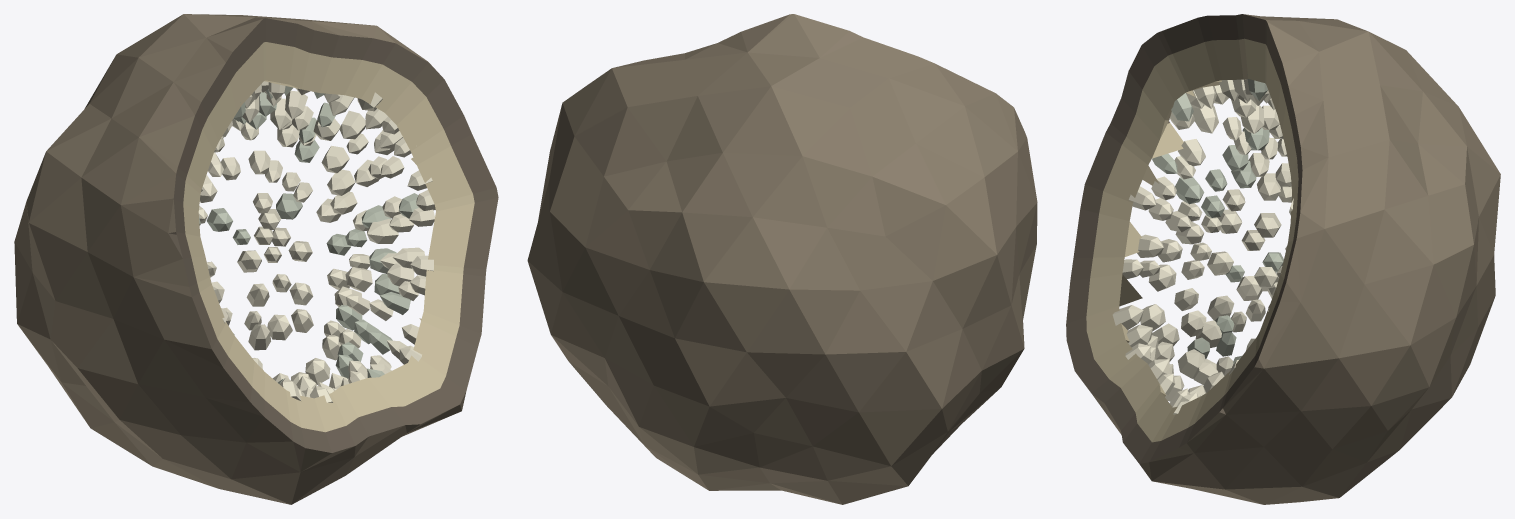
3 renders of one model, left to right at view 1: azimuth 30°, elevation 25°; view 2: azimuth 150°, elevation 25°; view 3: azimuth 270°, elevation 25°, orthographic. The views are drawn at different scales.
Parts seen in each view (by area): view 1: retained_lumpy_geodesic_enclosing_rind, pale_inner_layer_at_display_cut, small_unequal_inward_quartz_lining.001, finite_outer_rind_at_display_cut, small_unequal_inward_quartz_lining; view 2: retained_lumpy_geodesic_enclosing_rind; view 3: retained_lumpy_geodesic_enclosing_rind, small_unequal_inward_quartz_lining.001, pale_inner_layer_at_display_cut, finite_outer_rind_at_display_cut, small_unequal_inward_quartz_lining, concave_pale_chalcedony_inner_wall.
Part boxes in pixels (bbox=[...]): retained_lumpy_geodesic_enclosing_rind: bbox=[14, 14, 465, 504]; pale_inner_layer_at_display_cut: bbox=[183, 42, 474, 432]; small_unequal_inward_quartz_lining.001: bbox=[198, 81, 435, 402]; finite_outer_rind_at_display_cut: bbox=[168, 18, 498, 452]; small_unequal_inward_quartz_lining: bbox=[199, 86, 418, 383]; retained_lumpy_geodesic_enclosing_rind: bbox=[527, 14, 1037, 504]; retained_lumpy_geodesic_enclosing_rind: bbox=[1091, 14, 1500, 504]; small_unequal_inward_quartz_lining.001: bbox=[1112, 79, 1293, 414]; pale_inner_layer_at_display_cut: bbox=[1086, 38, 1298, 442]; finite_outer_rind_at_display_cut: bbox=[1066, 14, 1302, 463]; small_unequal_inward_quartz_lining: bbox=[1152, 74, 1283, 364]; concave_pale_chalcedony_inner_wall: bbox=[1121, 79, 1245, 394].
Bounding box in the file's own units: 0.1665 × 0.1609 × 0.1383.
